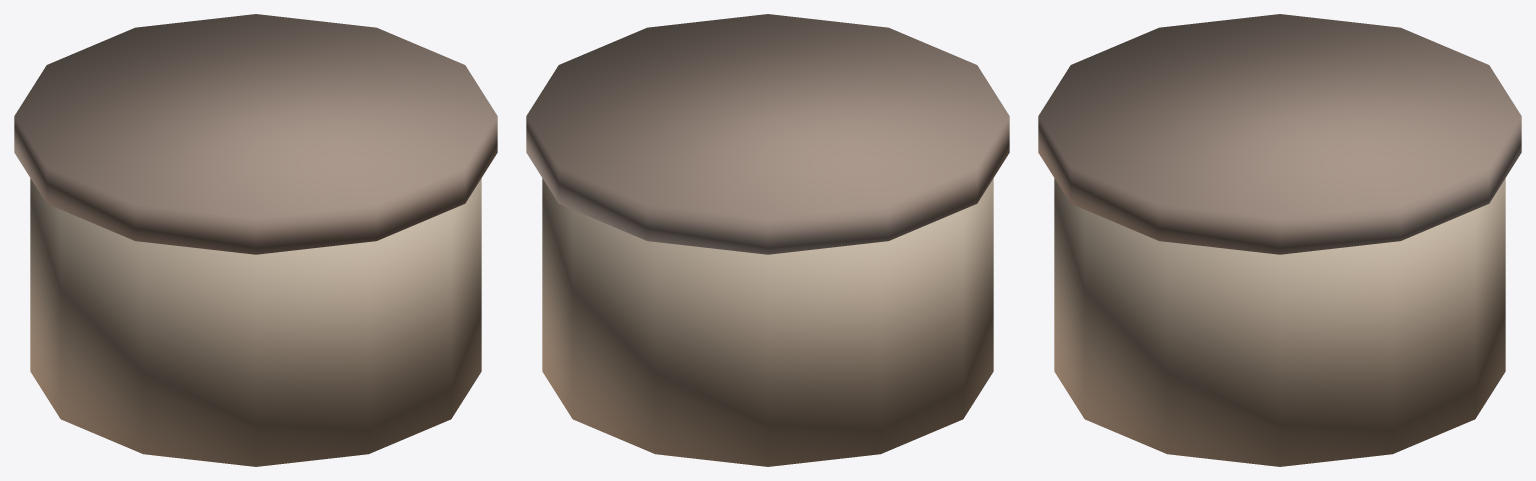
File: stump.glb
3 renders of one model, left to right at view 1: azimuth 30°, elevation 25°; view 2: azimuth 150°, elevation 25°; view 3: azimuth 270°, elevation 25°, orthographic.
Visible parts, largest first — view 1: Body, Ring; view 2: Body, Ring; view 3: Body, Ring.
Boxes of the visible parts, box(x1,y1,x2,y2) form: Body: box(30, 178, 481, 466); Ring: box(14, 14, 497, 254); Body: box(542, 178, 993, 466); Ring: box(526, 14, 1009, 254); Body: box(1054, 178, 1505, 466); Ring: box(1038, 14, 1521, 254).
Bounding box in the file's own units: 0.6 × 0.35 × 0.6.
